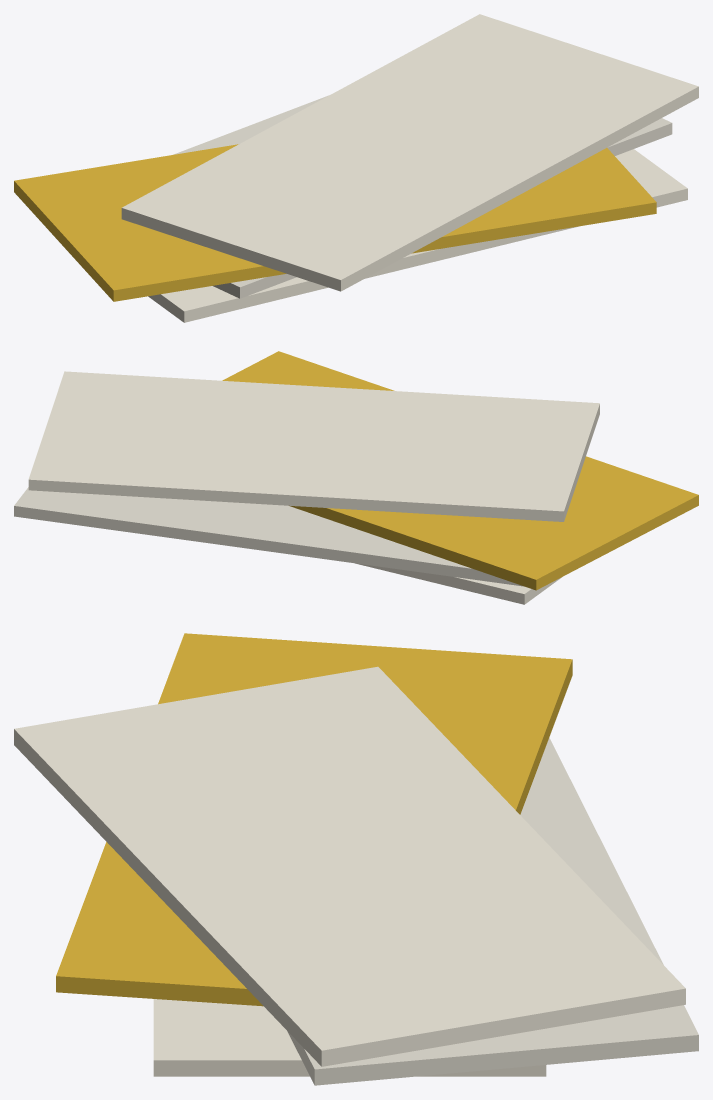
The model's file is GD_MailPile_01.glb.
3 views of the same model, one above another, from view 1: azimuth 30°, elevation 25°; view 2: azimuth 150°, elevation 25°; view 3: azimuth 270°, elevation 25° (orthographic). The views are drawn at different scales.
Parts seen in each view (by area): view 1: GD_MailPile_01; view 2: GD_MailPile_01; view 3: GD_MailPile_01.
Boxes of the visible parts, <box> form: GD_MailPile_01: <box>14,14,698,322</box>; GD_MailPile_01: <box>14,351,698,604</box>; GD_MailPile_01: <box>14,633,698,1085</box>.
Size of the model in its own units: 0.2894 by 0.023 by 0.1918.
Materials: 1 (1 with a texture image).
